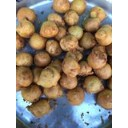bonda: (38, 68, 61, 87), (20, 84, 43, 102), (94, 25, 114, 45), (88, 49, 107, 68), (18, 6, 37, 25), (30, 100, 51, 116), (63, 57, 80, 76), (84, 76, 104, 92), (16, 20, 34, 37), (41, 21, 59, 38), (29, 31, 45, 50), (17, 69, 34, 86), (67, 86, 82, 103), (99, 89, 112, 108), (91, 5, 106, 21), (34, 51, 49, 67), (61, 36, 78, 50), (45, 40, 59, 55), (17, 53, 33, 66), (50, 1, 70, 11), (66, 10, 79, 24), (71, 1, 86, 11)
